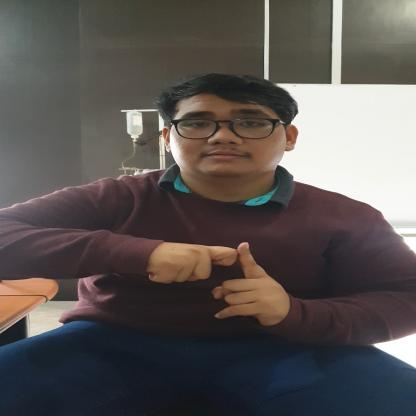K: (140, 239, 296, 328)
